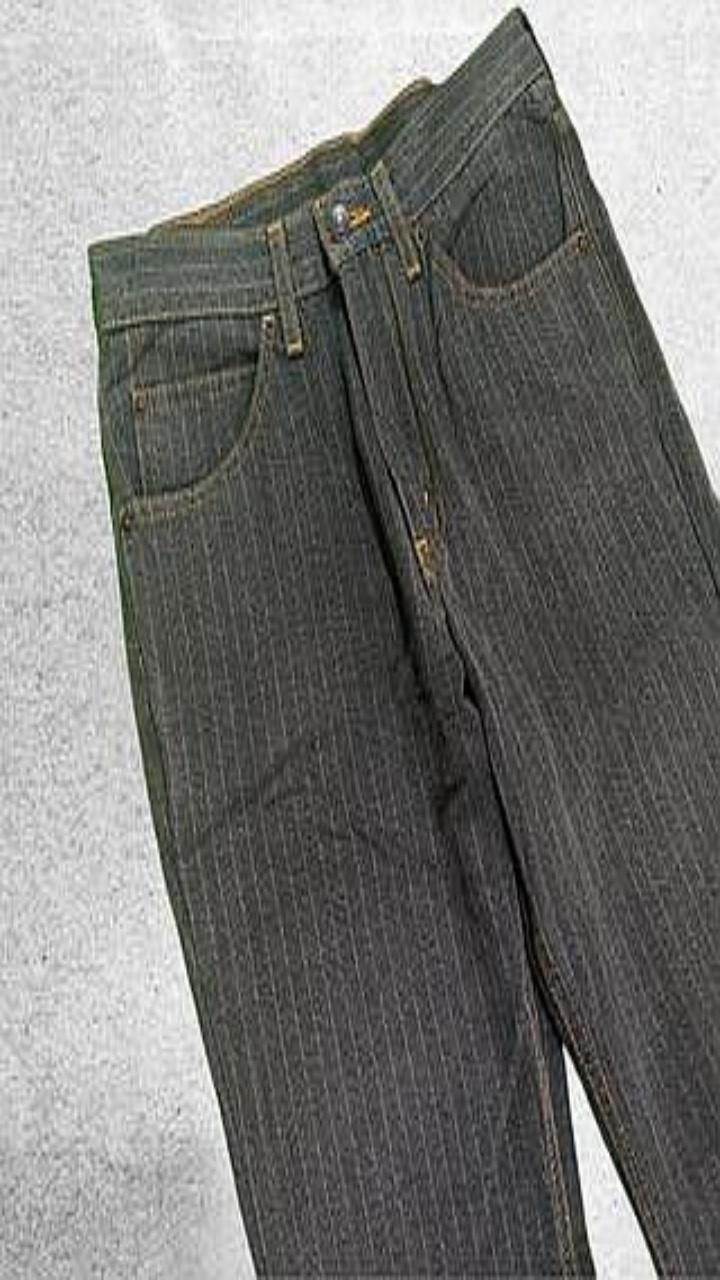Jeans: (88, 8, 719, 1276)
